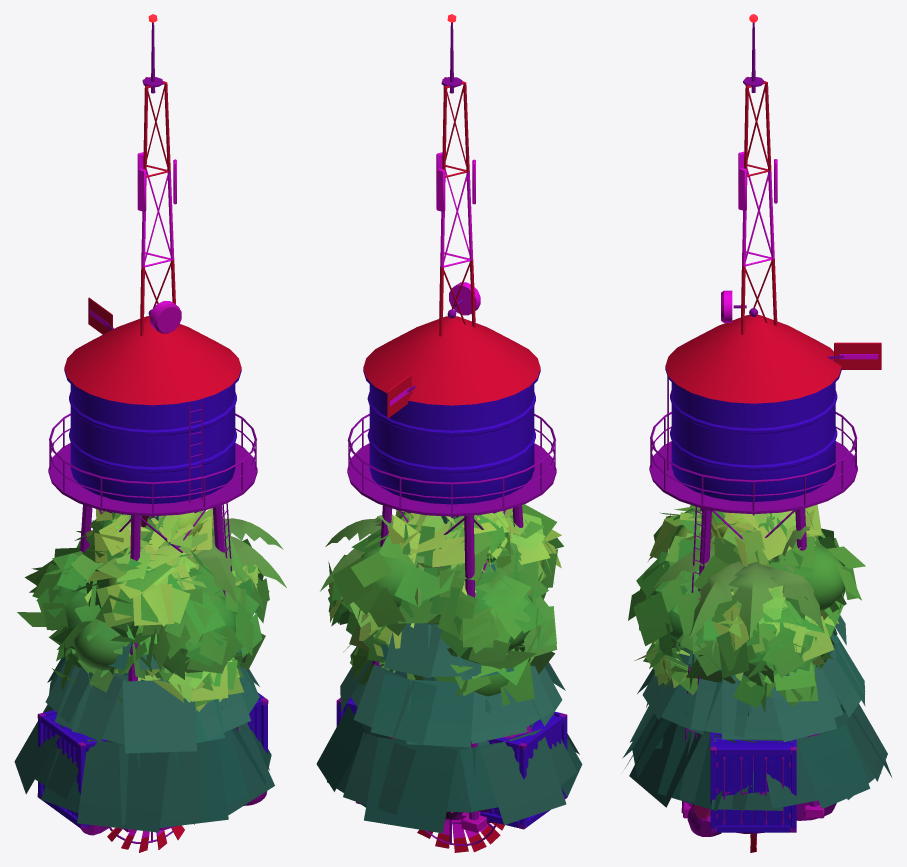
Rendered from props.glb.
3 views of the same model, side by side, from view 1: azimuth 30°, elevation 25°; view 2: azimuth 150°, elevation 25°; view 3: azimuth 270°, elevation 25° (orthographic).
Visible parts, largest first — view 1: WaterTower, Tree_Pine_A, Tree_Oak_A, RadioTower, Tree_Oak_B, Tree_Birch_A, Container_A, Tree_Palm_A, Windmill_Blades, Windmill; view 2: Tree_Pine_A, WaterTower, Tree_Oak_A, RadioTower, Tree_Oak_B, Container_A, Tree_Birch_A, Windmill_Blades, Tree_Palm_A, Windmill; view 3: WaterTower, Tree_Pine_A, Tree_Oak_A, Container_A, Tree_Palm_A, RadioTower, Tree_Oak_B, Windmill, Rock_Big, Tree_Birch_A.
Boxes of the visible parts, left/top/right/bottom form: WaterTower: left=48, top=309, right=257, bottom=832; Tree_Pine_A: left=14, top=514, right=274, bottom=832; Tree_Oak_A: left=17, top=510, right=269, bottom=693; RadioTower: left=137, top=14, right=181, bottom=335; Tree_Oak_B: left=51, top=626, right=243, bottom=711; Tree_Birch_A: left=82, top=508, right=213, bottom=634; Container_A: left=37, top=693, right=268, bottom=828; Tree_Palm_A: left=192, top=518, right=286, bottom=603; Windmill_Blades: left=107, top=824, right=194, bottom=852; Windmill: left=88, top=297, right=151, bottom=527; Tree_Pine_A: left=316, top=514, right=582, bottom=833; WaterTower: left=347, top=309, right=556, bottom=832; Tree_Oak_A: left=328, top=504, right=563, bottom=673; RadioTower: left=436, top=14, right=480, bottom=515; Tree_Oak_B: left=343, top=617, right=534, bottom=705; Container_A: left=336, top=697, right=567, bottom=829; Tree_Birch_A: left=393, top=511, right=519, bottom=648; Windmill_Blades: left=417, top=819, right=504, bottom=852; Tree_Palm_A: left=320, top=515, right=424, bottom=606; Windmill: left=387, top=374, right=480, bottom=822; WaterTower: left=649, top=308, right=857, bottom=818; Tree_Pine_A: left=622, top=533, right=891, bottom=811; Tree_Oak_A: left=628, top=504, right=865, bottom=689; Container_A: left=710, top=732, right=796, bottom=832; Tree_Palm_A: left=653, top=526, right=824, bottom=639; RadioTower: left=721, top=14, right=777, bottom=334; Tree_Oak_B: left=634, top=601, right=843, bottom=713; Windmill: left=827, top=342, right=881, bottom=369; Rock_Big: left=687, top=733, right=836, bottom=836; Tree_Birch_A: left=686, top=510, right=838, bottom=623.
Size of the model in its own units: 8.12 by 25.99 by 7.68.
